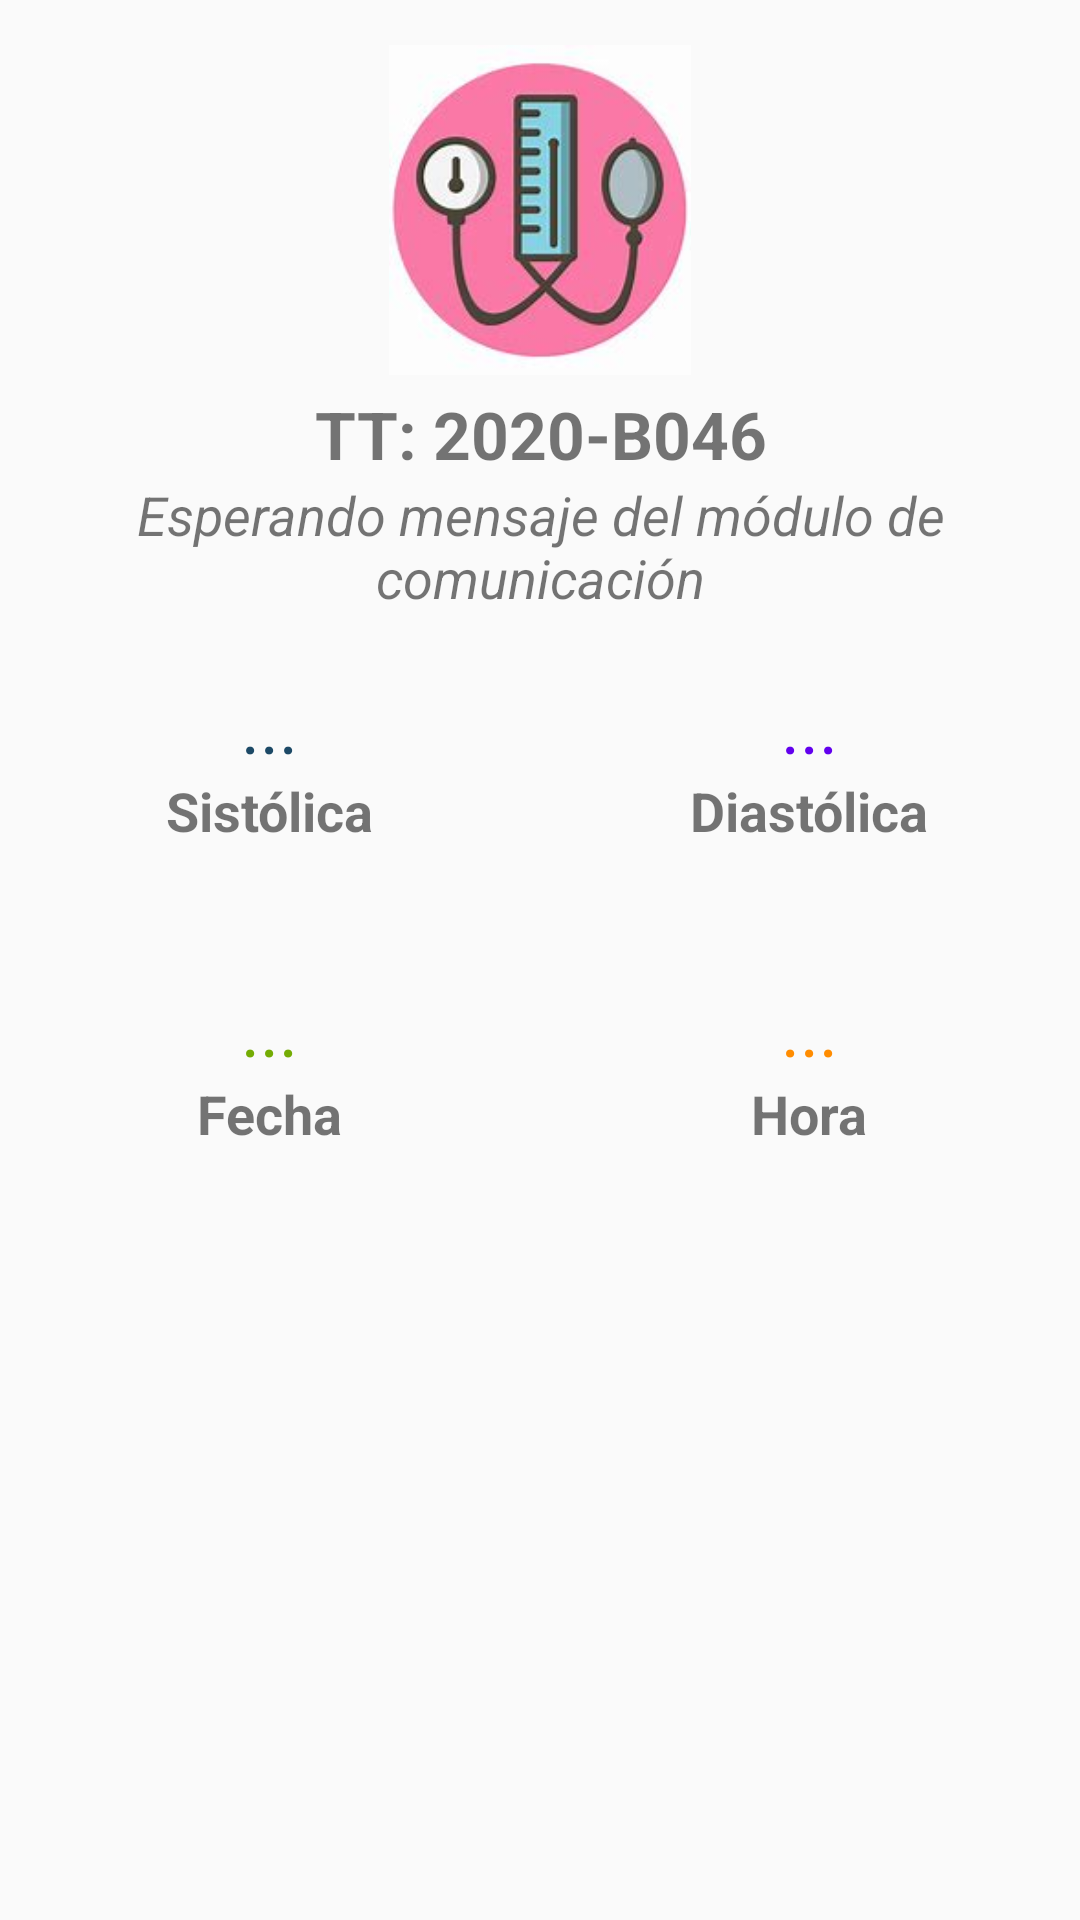

Where to tap for icons on this 1080*1920 app screen, as (x=x, y=y):
presion arterial: (x=539, y=210)
